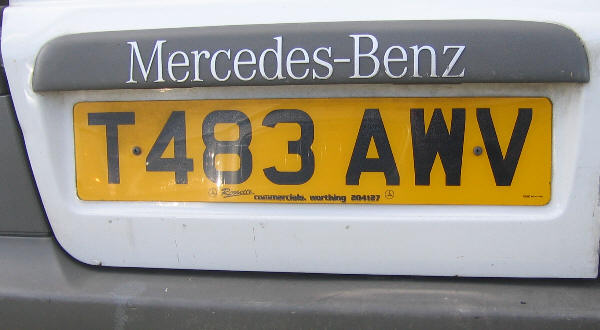license_plate: (72, 96, 553, 205)
